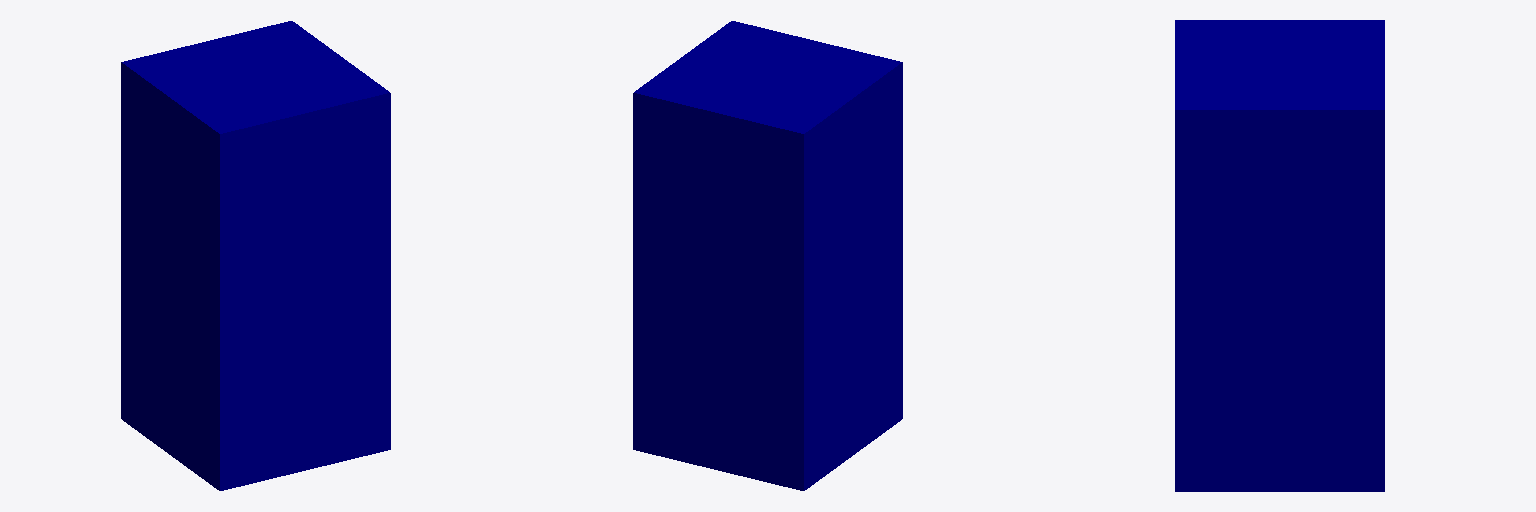
URDF robot description (storage-tray):
<?xml version="1.0" ?>
<robot name="storage-tray">
  <link name="storage-tray-base">
    <visual>
      <origin rpy="0 0 0" xyz="0 0 0"/>
      <geometry>
        <box size="0.3 0.3 0.6"/>
      </geometry>
      <material name="test">
        <color rgba="0.0 0.0 0.6 1.0"/>
      </material>
    </visual>
    <collision>
      <origin rpy="0 0 0" xyz="0 0 0"/>
      <geometry>
        <box size="0.3 0.3 0.6"/>
      </geometry>
    </collision>
<!--     <inertial>
      <origin rpy="0 0 0" xyz="0.000000 0.000000 0.000000"/>
      <mass value="0.0"/>
      <inertia ixx="1.0" ixy="0.01" ixz="0.01" iyy="1.0" iyz="0.01" izz="1.0"/>
    </inertial> -->
  </link>
</robot>

--- What the picture shows (computed from the rendered views, not written in the file) ---
Views: 3 orthographic renders of the robot side by side, from view 1: azimuth 30°, elevation 25°; view 2: azimuth 150°, elevation 25°; view 3: azimuth 270°, elevation 25°.
Robot: storage-tray — 1 links, 0 joints (none); root link storage-tray-base; default pose: every joint at zero.
Visible links, largest first — view 1: storage-tray-base; view 2: storage-tray-base; view 3: storage-tray-base.
Boxes of the visible links, <box> form: storage-tray-base: <box>121,21,390,490</box>; storage-tray-base: <box>633,21,902,490</box>; storage-tray-base: <box>1175,20,1384,491</box>.
Size in the robot's own frame: 0.3 by 0.3 by 0.6 metres.
Geometry: primitives only (box / cylinder / sphere), no mesh files.